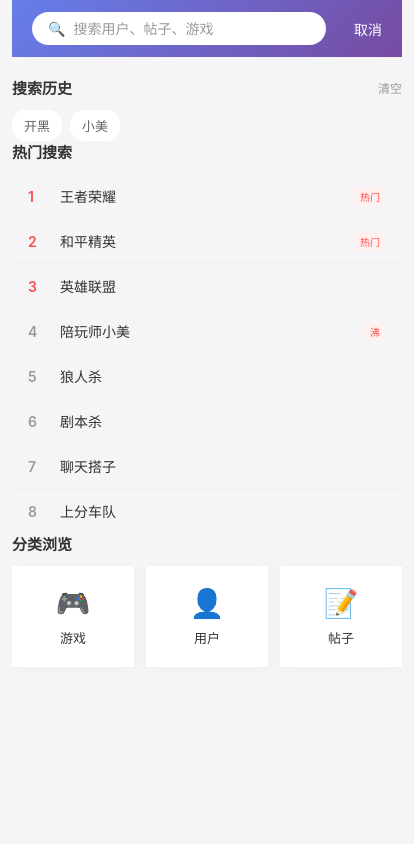
Test: Search 普通用户搜索（P2-8） › 三类均为空时展示"未找到相关结果"空态
Type "不存在的关键词" into the field with class "search-input" at (192, 28), box [74,20,310,36]
Wait 400 ms
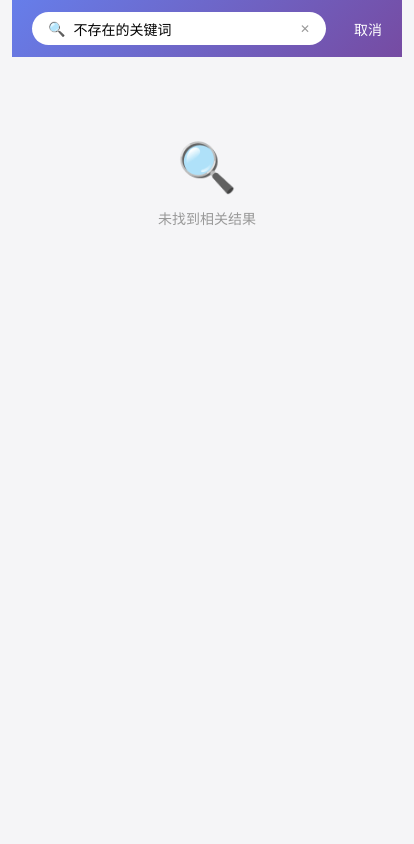
Expected: the element with class "empty" is shown, [158,137,256,227]
Expected: the element with class "empty" shows "未找到相关结果", [158,210,256,227]
